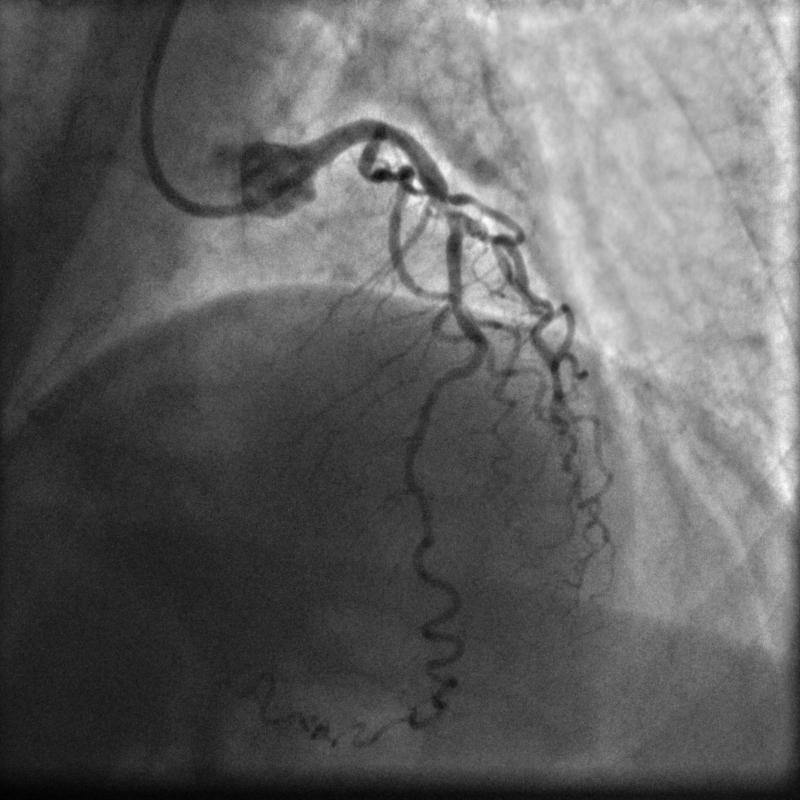Stenosis: (426, 193, 461, 220)
